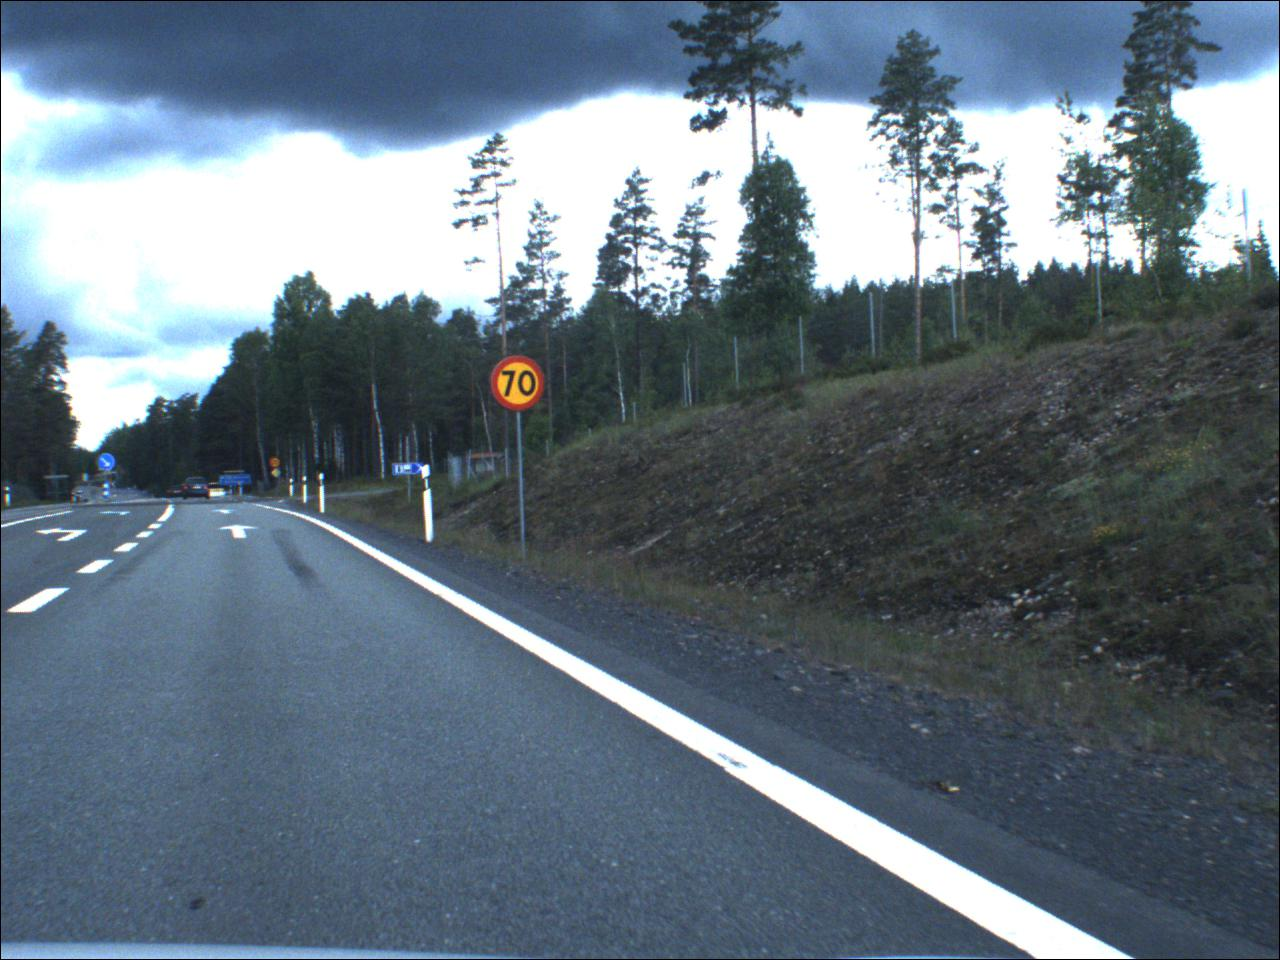70_SIGN: (494, 357, 547, 414), (271, 459, 283, 470)
PASS_RIGHT_SIDE: (100, 455, 118, 473)
PRIORITY_ROAD: (273, 471, 283, 480)
